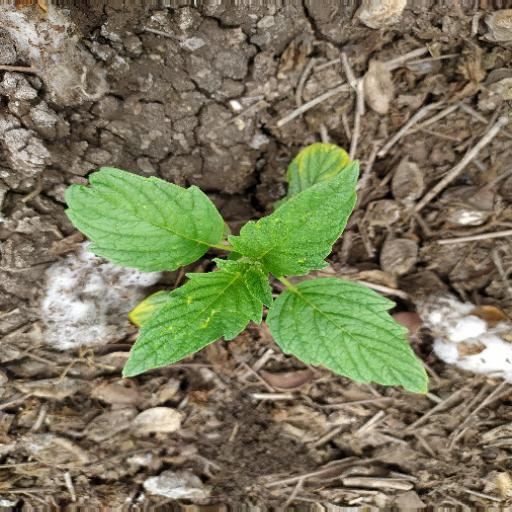crop: (62, 134, 433, 402)
